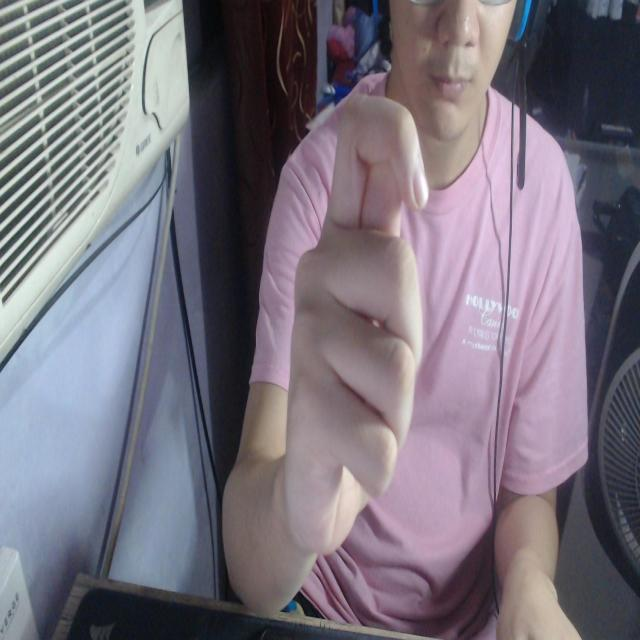T: (282, 87, 431, 560)
